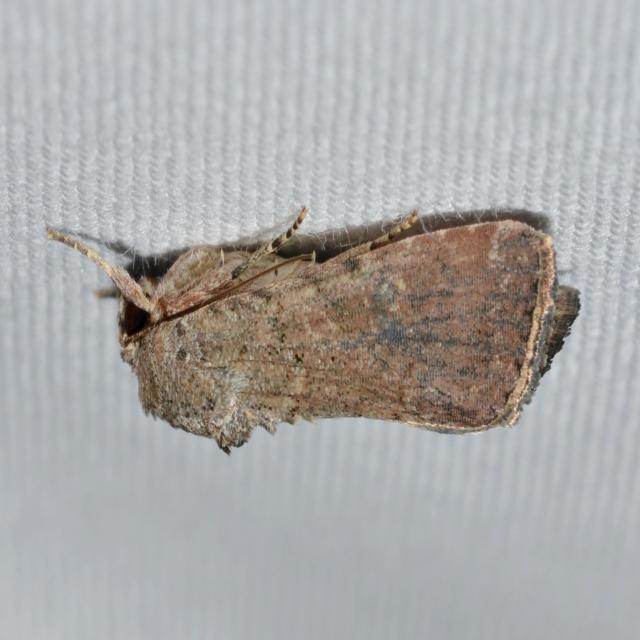army worm: (48, 220, 584, 456)
